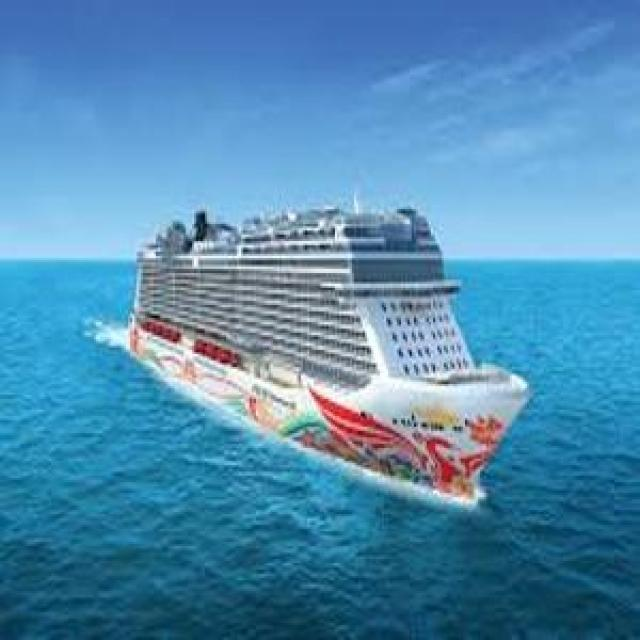passenger ship: (117, 198, 527, 503)
